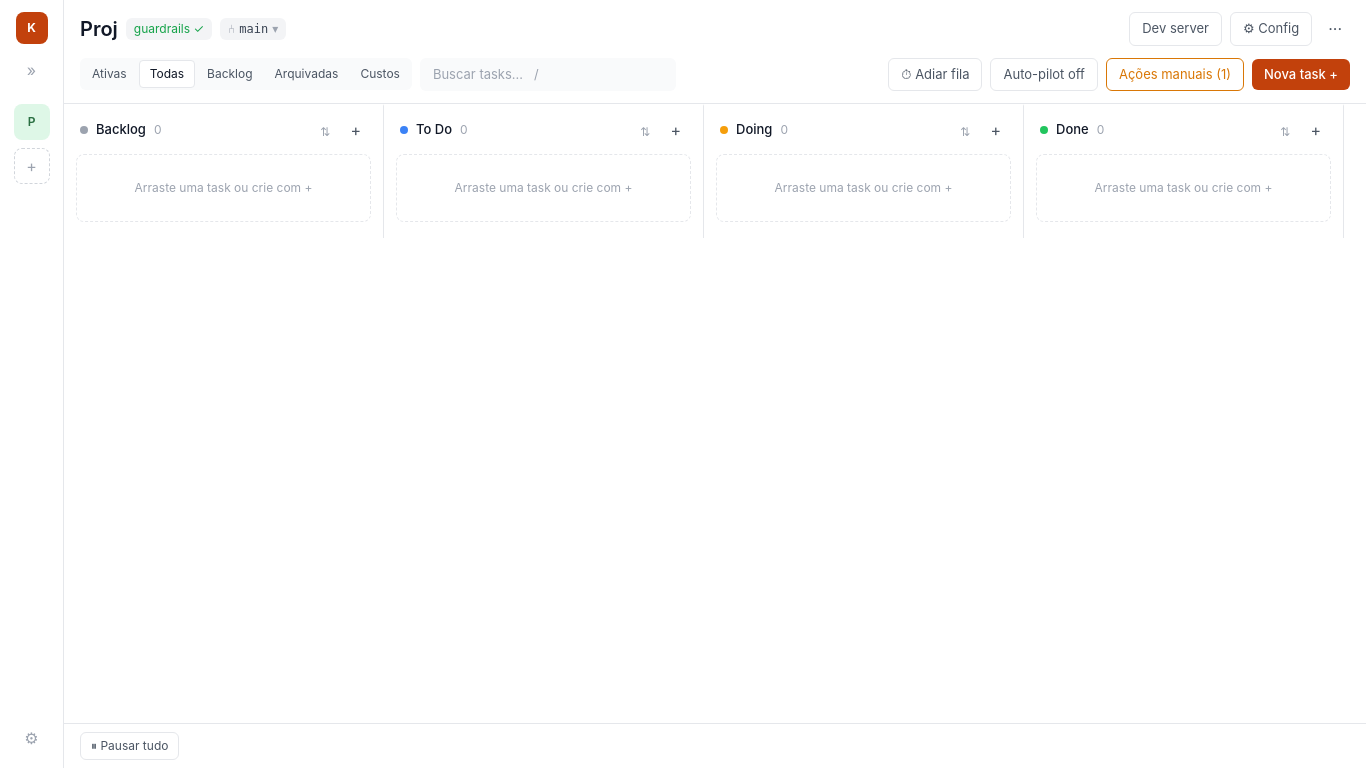
Test case: modal de ações manuais › executa o comando e mostra a saída no item
The image size is (1366, 768).
Click the button "Ações manuais (1)" at (1175, 74), box [1106,58,1244,91]
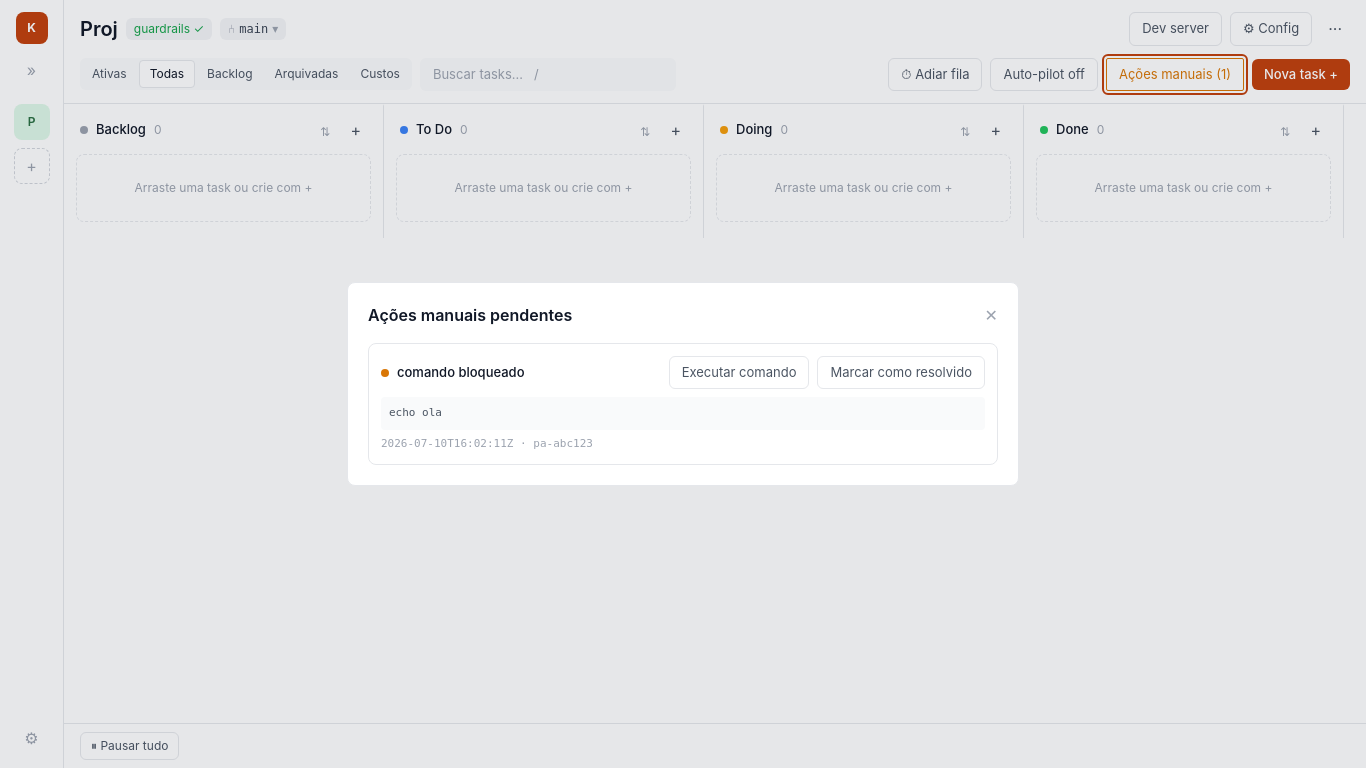
Click the button "Executar comando" at (739, 373), box [669,356,809,389]
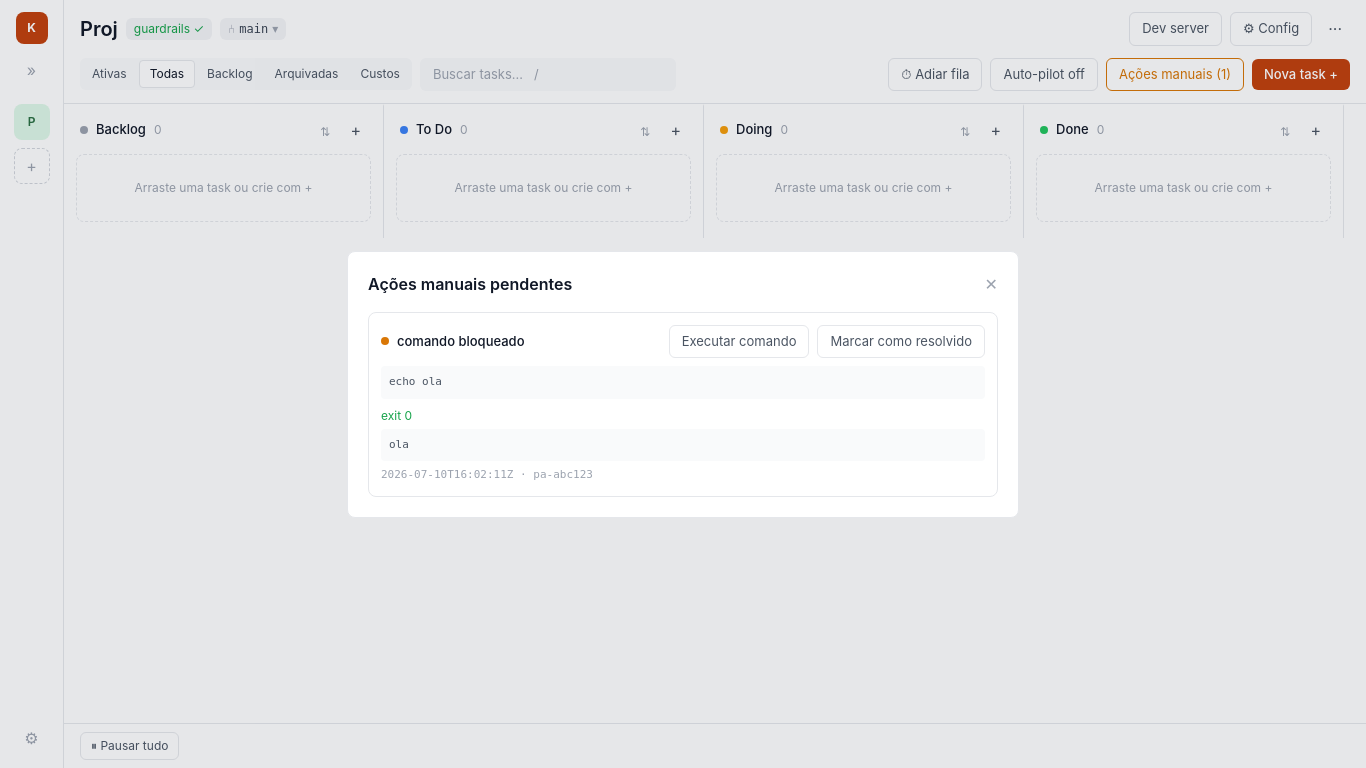
Expected: the text "ola" is shown, [381,428,985,461]
Expected: the text "exit 0" is shown, [381,408,412,422]
